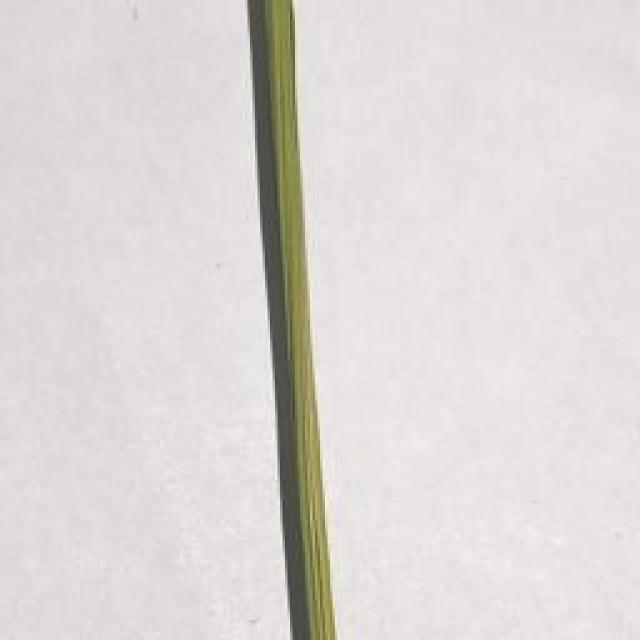Healthy-Plant: (261, 0, 337, 640)
